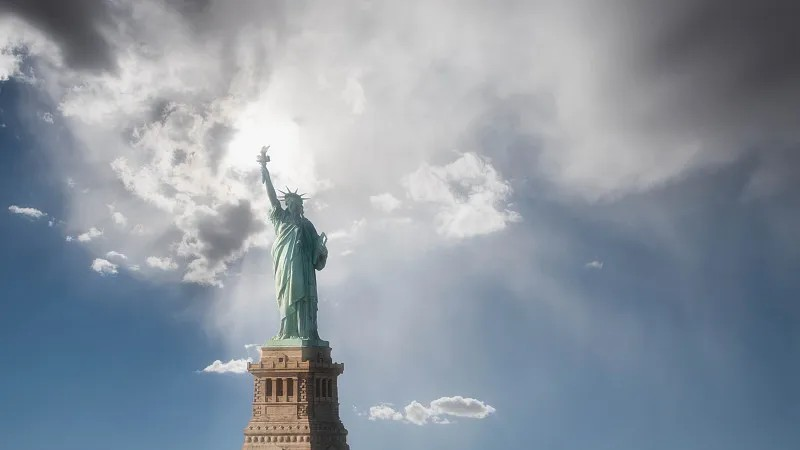SL: (239, 144, 350, 450)
